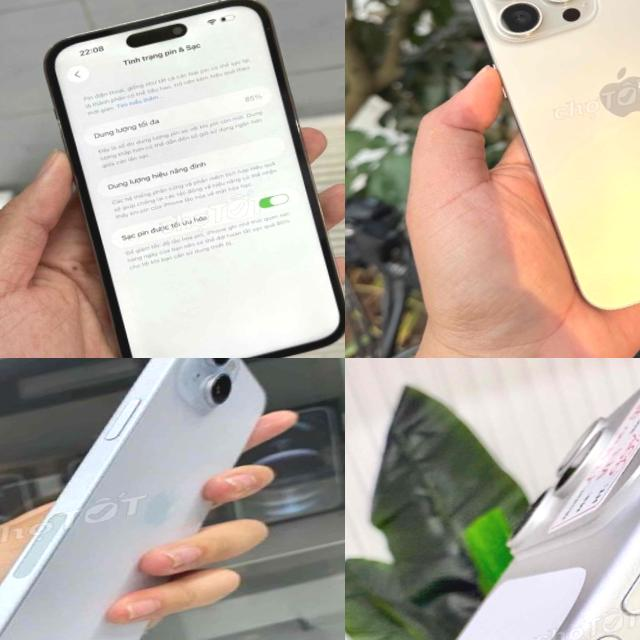gen_14: (26, 0, 345, 358)
gen_15: (0, 358, 333, 640), (449, 0, 640, 329)
gen_17: (454, 388, 640, 640), (548, 393, 640, 532)
